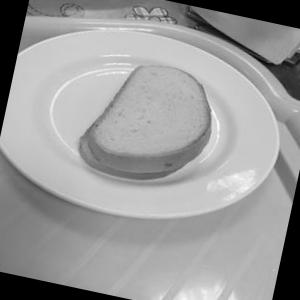bread: (74, 42, 226, 208)
